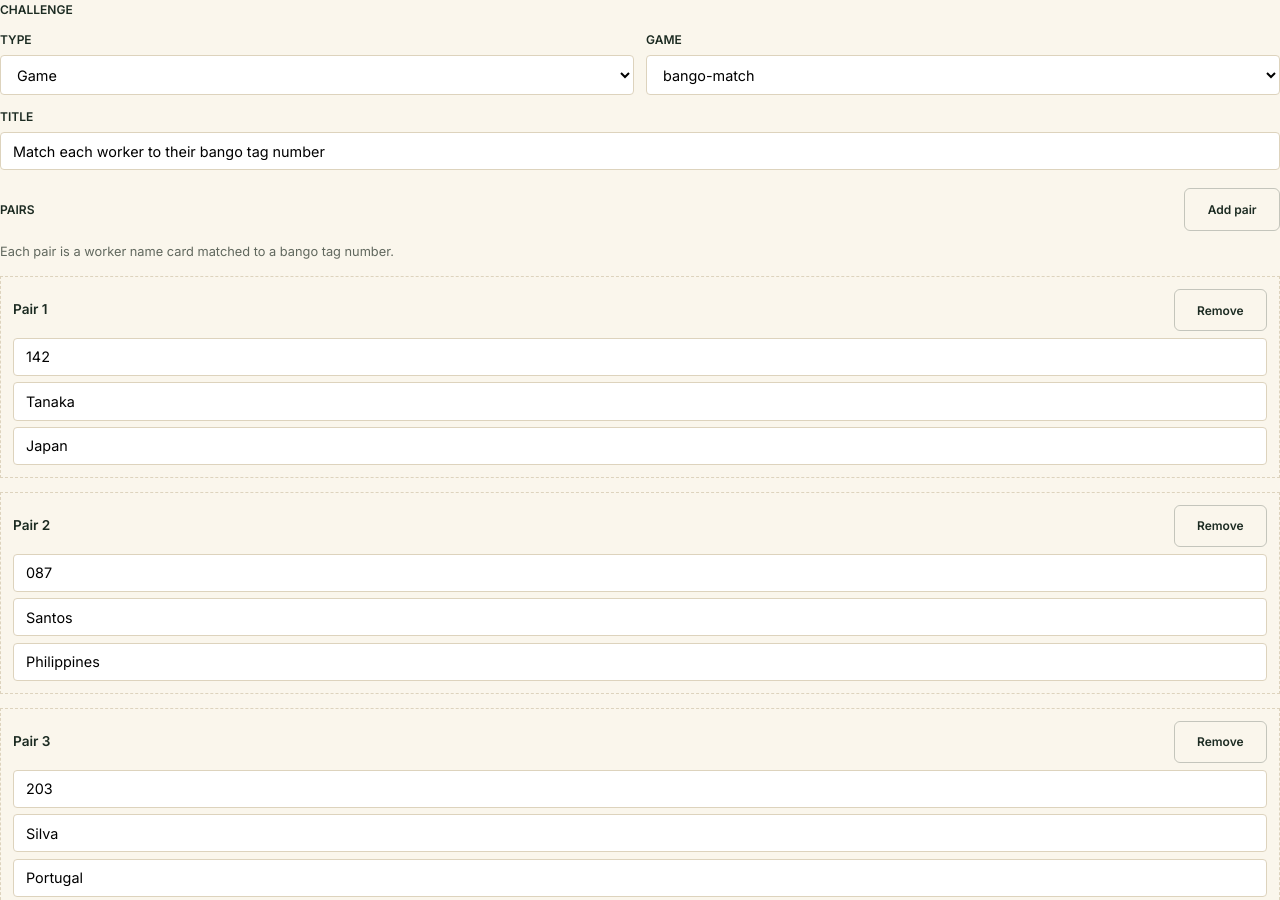
Test: ChallengeFields UI › shows pair fields for bango-match and shift fields for bell-to-bell
The width and height of the screenshot is (1280, 900).
Expected: the field named "bango match title" is shown, x1=0 y1=132 x2=1279 y2=170
Expected: the field named "pair 1 name" is shown, x1=13 y1=382 x2=1267 y2=420
Select "bell-to-bell" in the dropdown named "game id" at (963, 75), box x1=646 y1=55 x2=1279 y2=95
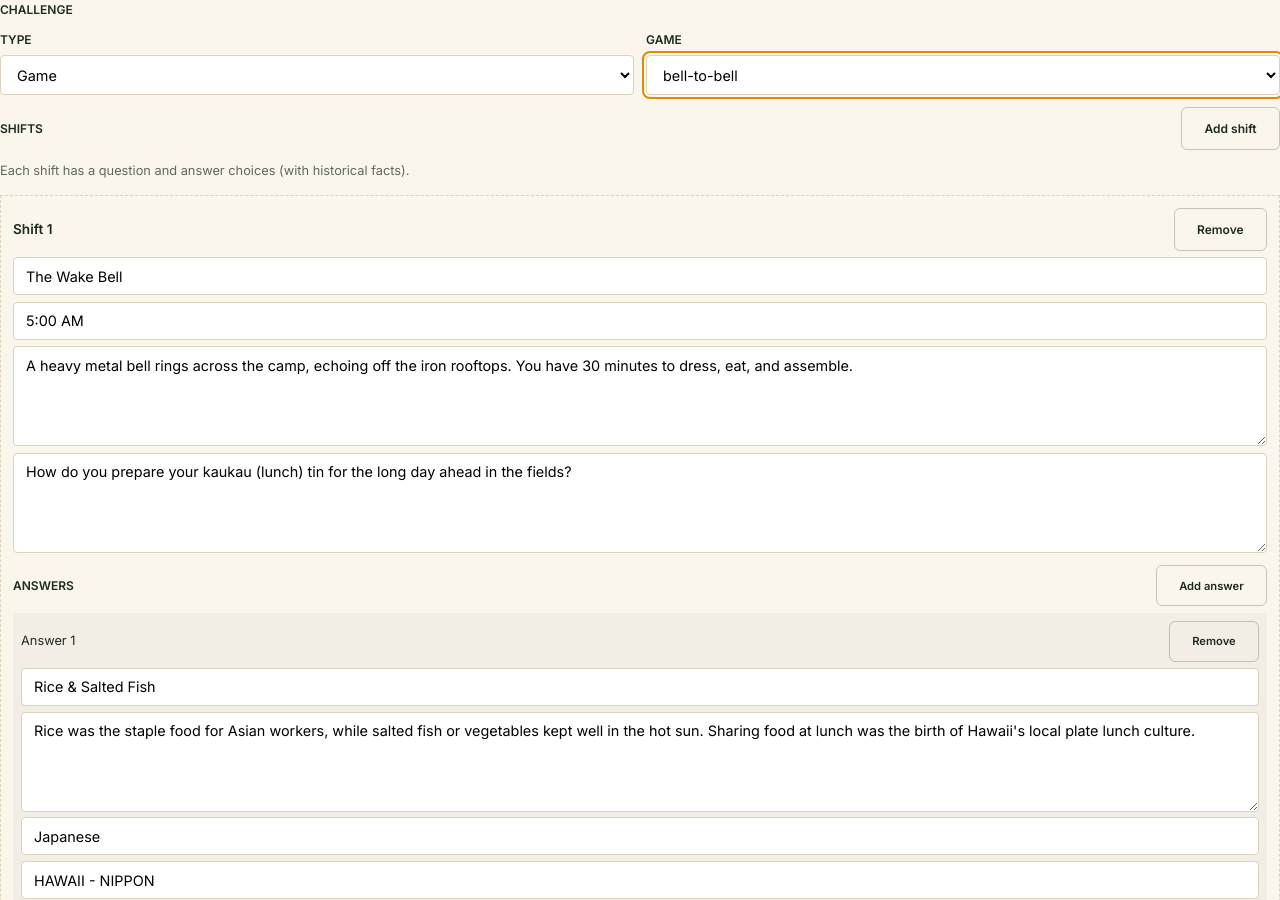
Expected: the text box named "shift 1 question" is shown, x1=13 y1=453 x2=1267 y2=553
Expected: the field named "shift 1 answer 1 text" is shown, x1=21 y1=668 x2=1259 y2=706
